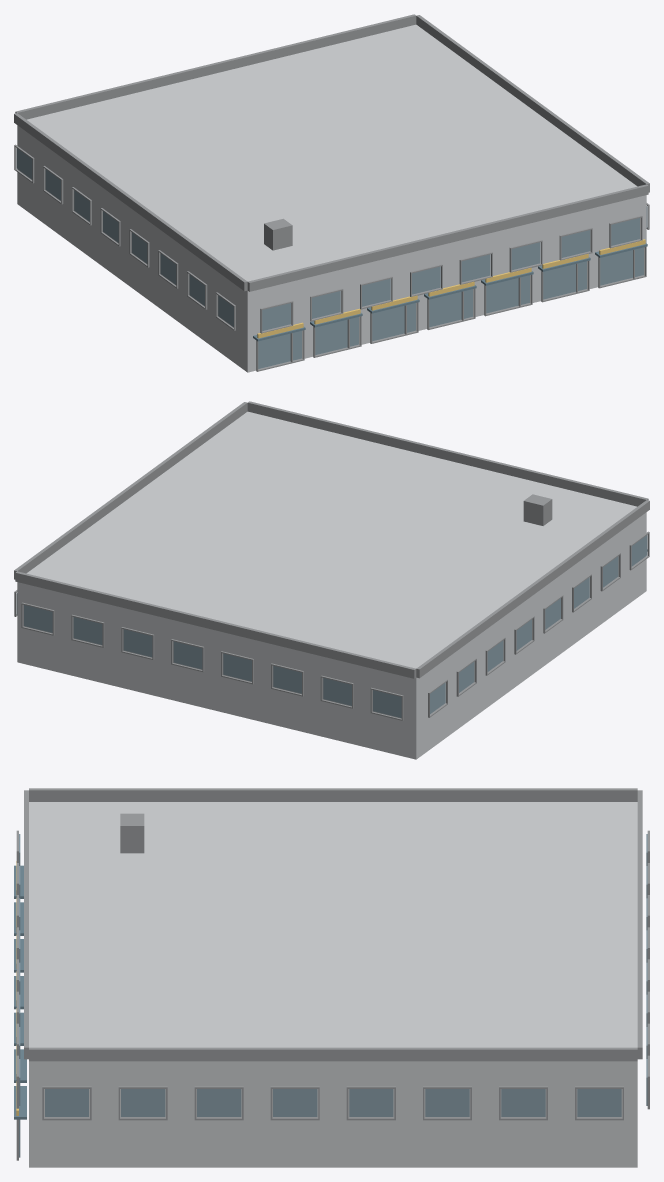
Rendered from commercial_4x4_a.glb.
The picture shows the model from 3 angles, top to bottom: view 1: azimuth 30°, elevation 25°; view 2: azimuth 150°, elevation 25°; view 3: azimuth 270°, elevation 25°; orthographic projection. The views are drawn at different scales.
Visible parts, largest first — view 1: commercial_4x4_a_0; view 2: commercial_4x4_a_0; view 3: commercial_4x4_a_0.
Part boxes in pixels (x1=…): commercial_4x4_a_0: x1=14, y1=14, x2=649, y2=372; commercial_4x4_a_0: x1=14, y1=401, x2=649, y2=759; commercial_4x4_a_0: x1=14, y1=788, x2=649, y2=1167.
Size of the model in its own units: 31.74 by 7.5 by 31.87.
